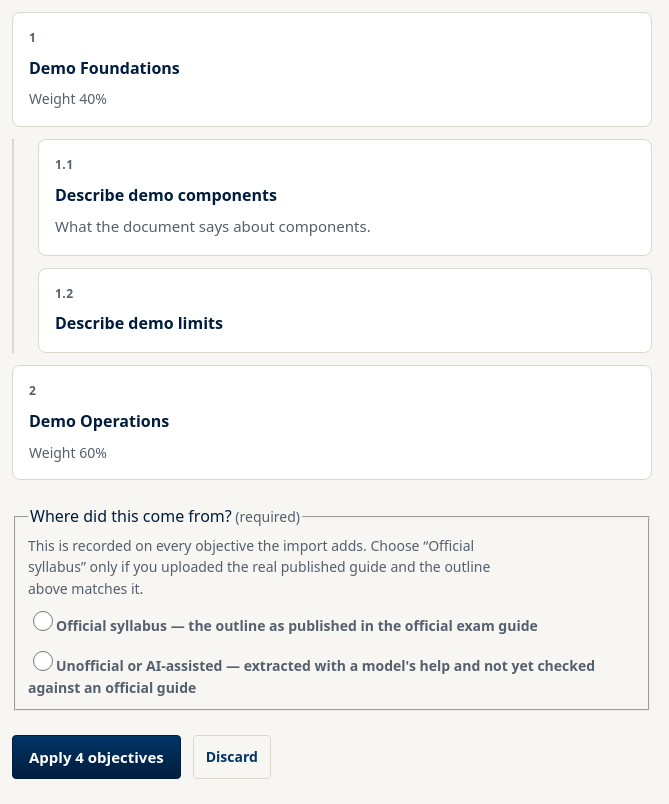
ObjectiveImportConfirm › a run that was already applied › reports the refusal at the form level rather than on a field
Click the radio button labelled "Official syllabus".
click(43, 621)  # box [33,611,53,631]
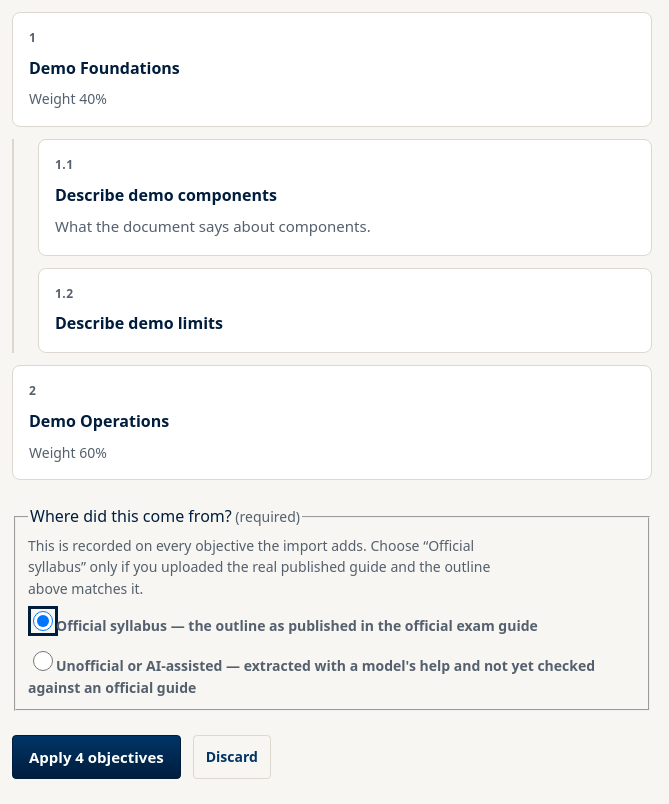
Click the button "Apply 4 objectives".
click(96, 757)  # box [12,735,181,779]
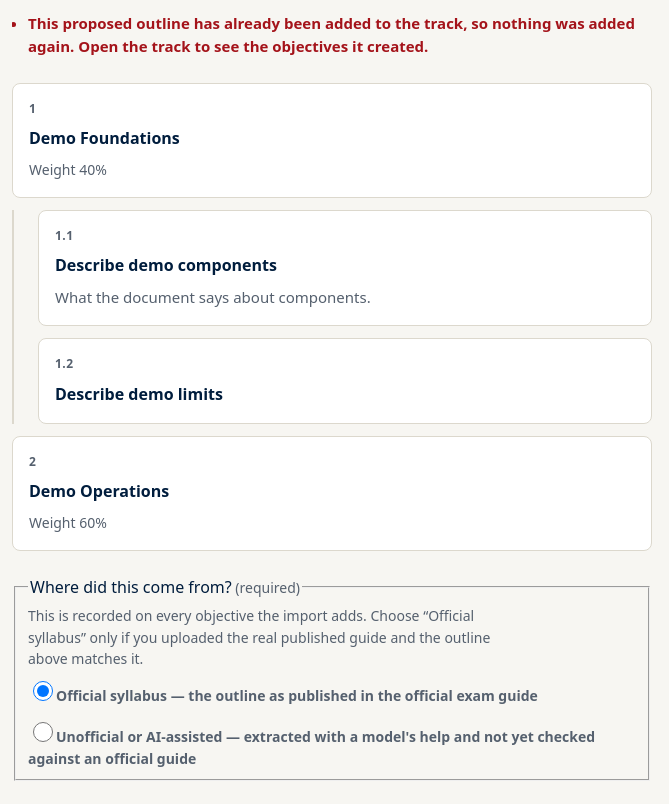
Expected: the list item "already been added to the track" shows "nothing was added again", [28,13,635,56]
